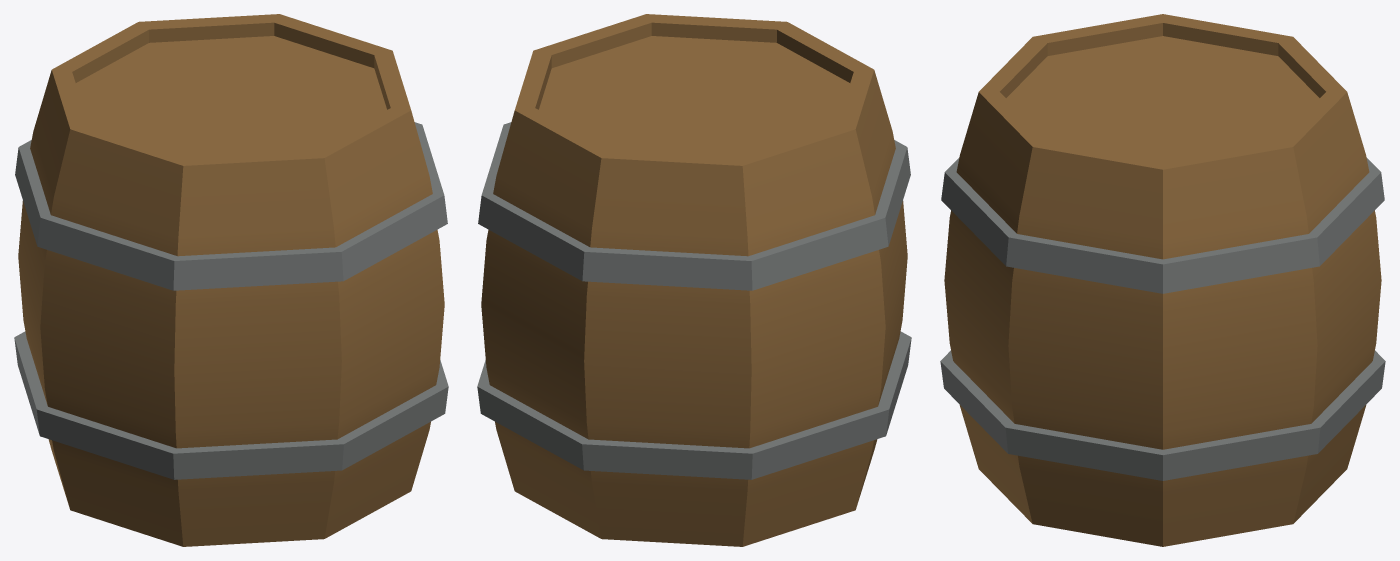
File: Barrel.fbx
3 renders of one model, left to right at view 1: azimuth 30°, elevation 25°; view 2: azimuth 150°, elevation 25°; view 3: azimuth 270°, elevation 25°, orthographic.
Visible parts, largest first — view 1: Barrel; view 2: Barrel; view 3: Barrel.
Part boxes in pixels (<box>): Barrel: <box>14,14,448,546</box>; Barrel: <box>477,14,911,546</box>; Barrel: <box>940,14,1385,546</box>.
Size of the model in its own units: 2.42 by 2.26 by 2.42.
